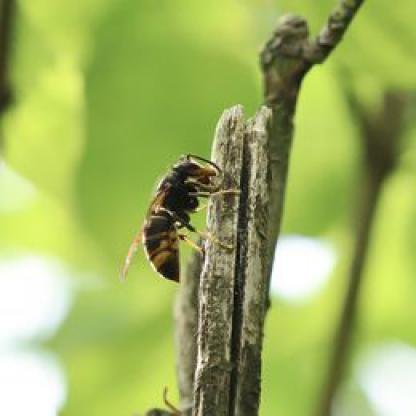Asian Hornet: (115, 141, 240, 290)
